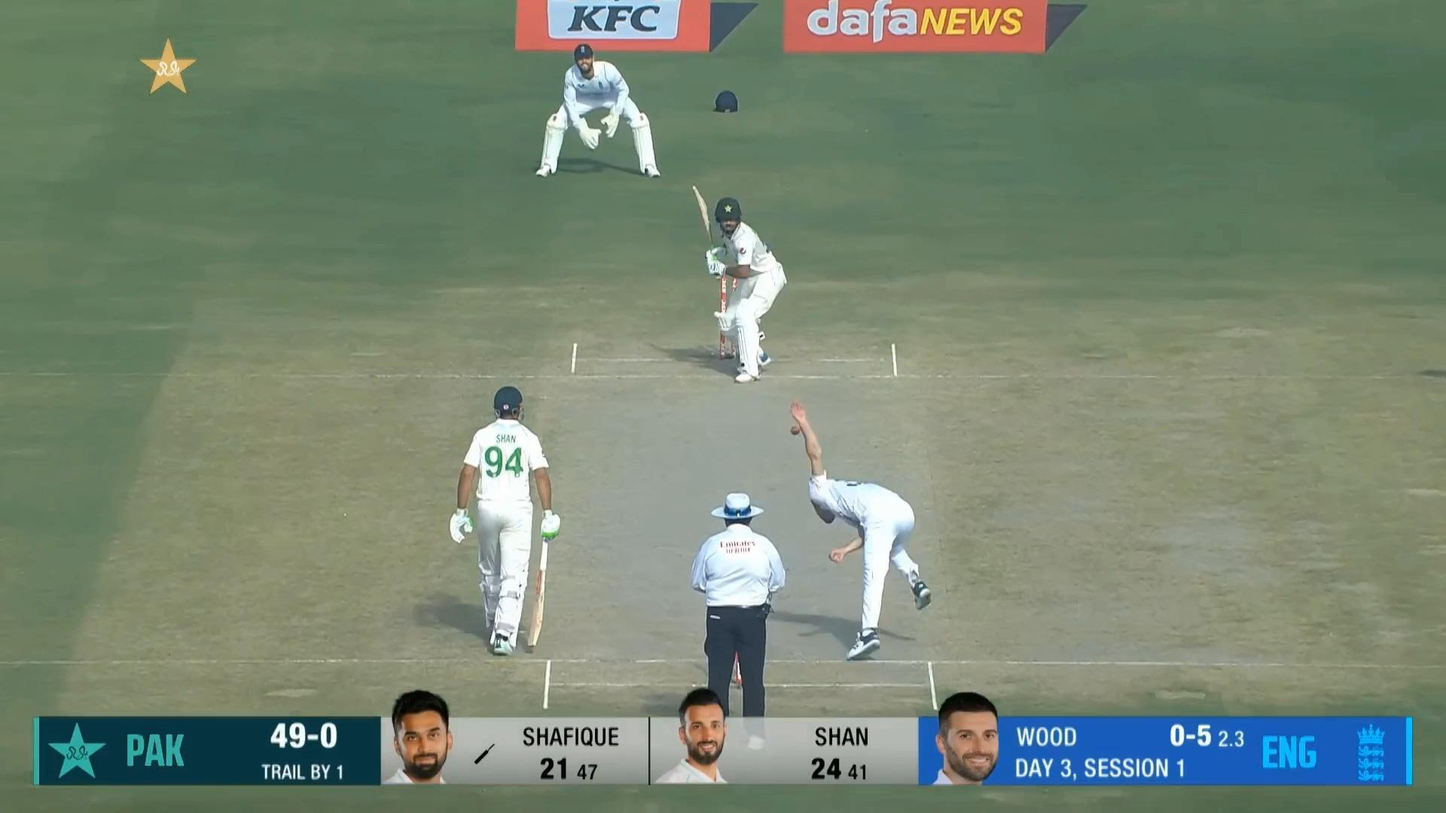BM 1: (692, 184, 788, 384)
BO: (788, 400, 932, 662)
